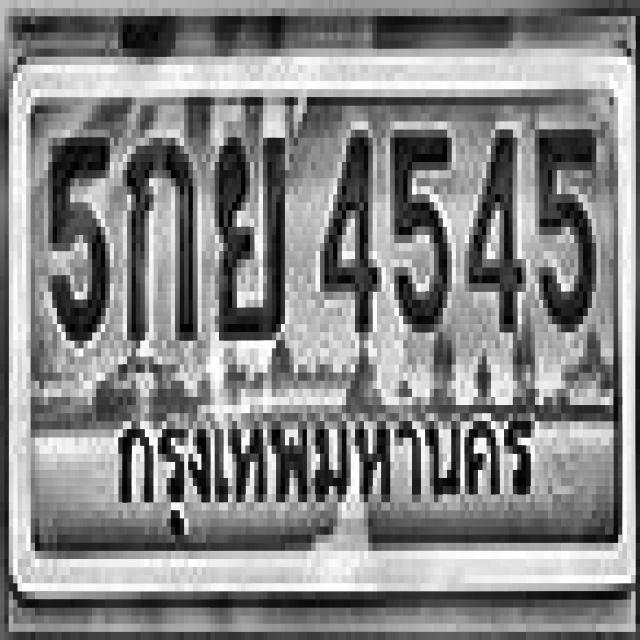license-plate: (9, 62, 636, 592)
